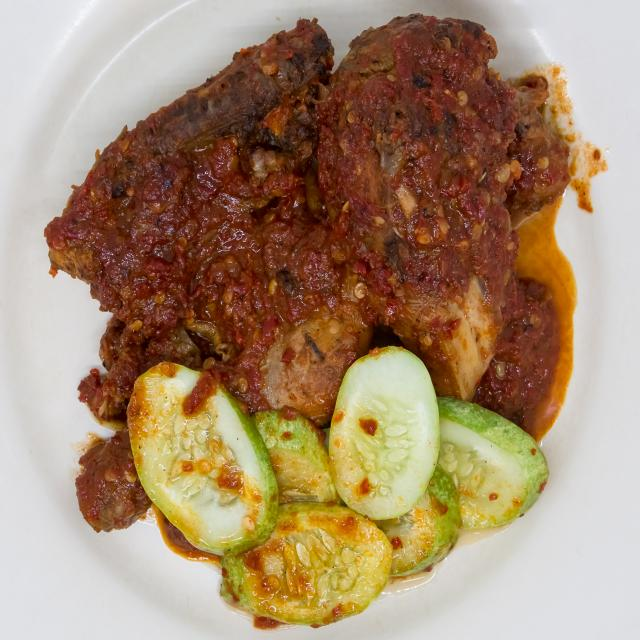Ayam-Bumbu-Rujak: (40, 9, 578, 564)
